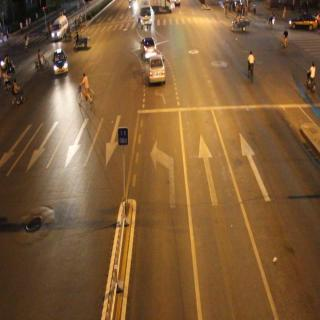BigCar: (138, 1, 153, 27)
Car: (289, 12, 317, 32), (147, 56, 166, 84), (52, 50, 68, 77), (140, 38, 157, 57), (53, 17, 67, 40)
